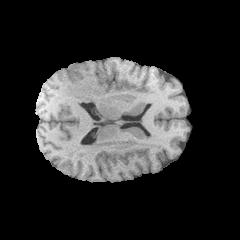glioma: (59, 64, 106, 103)
